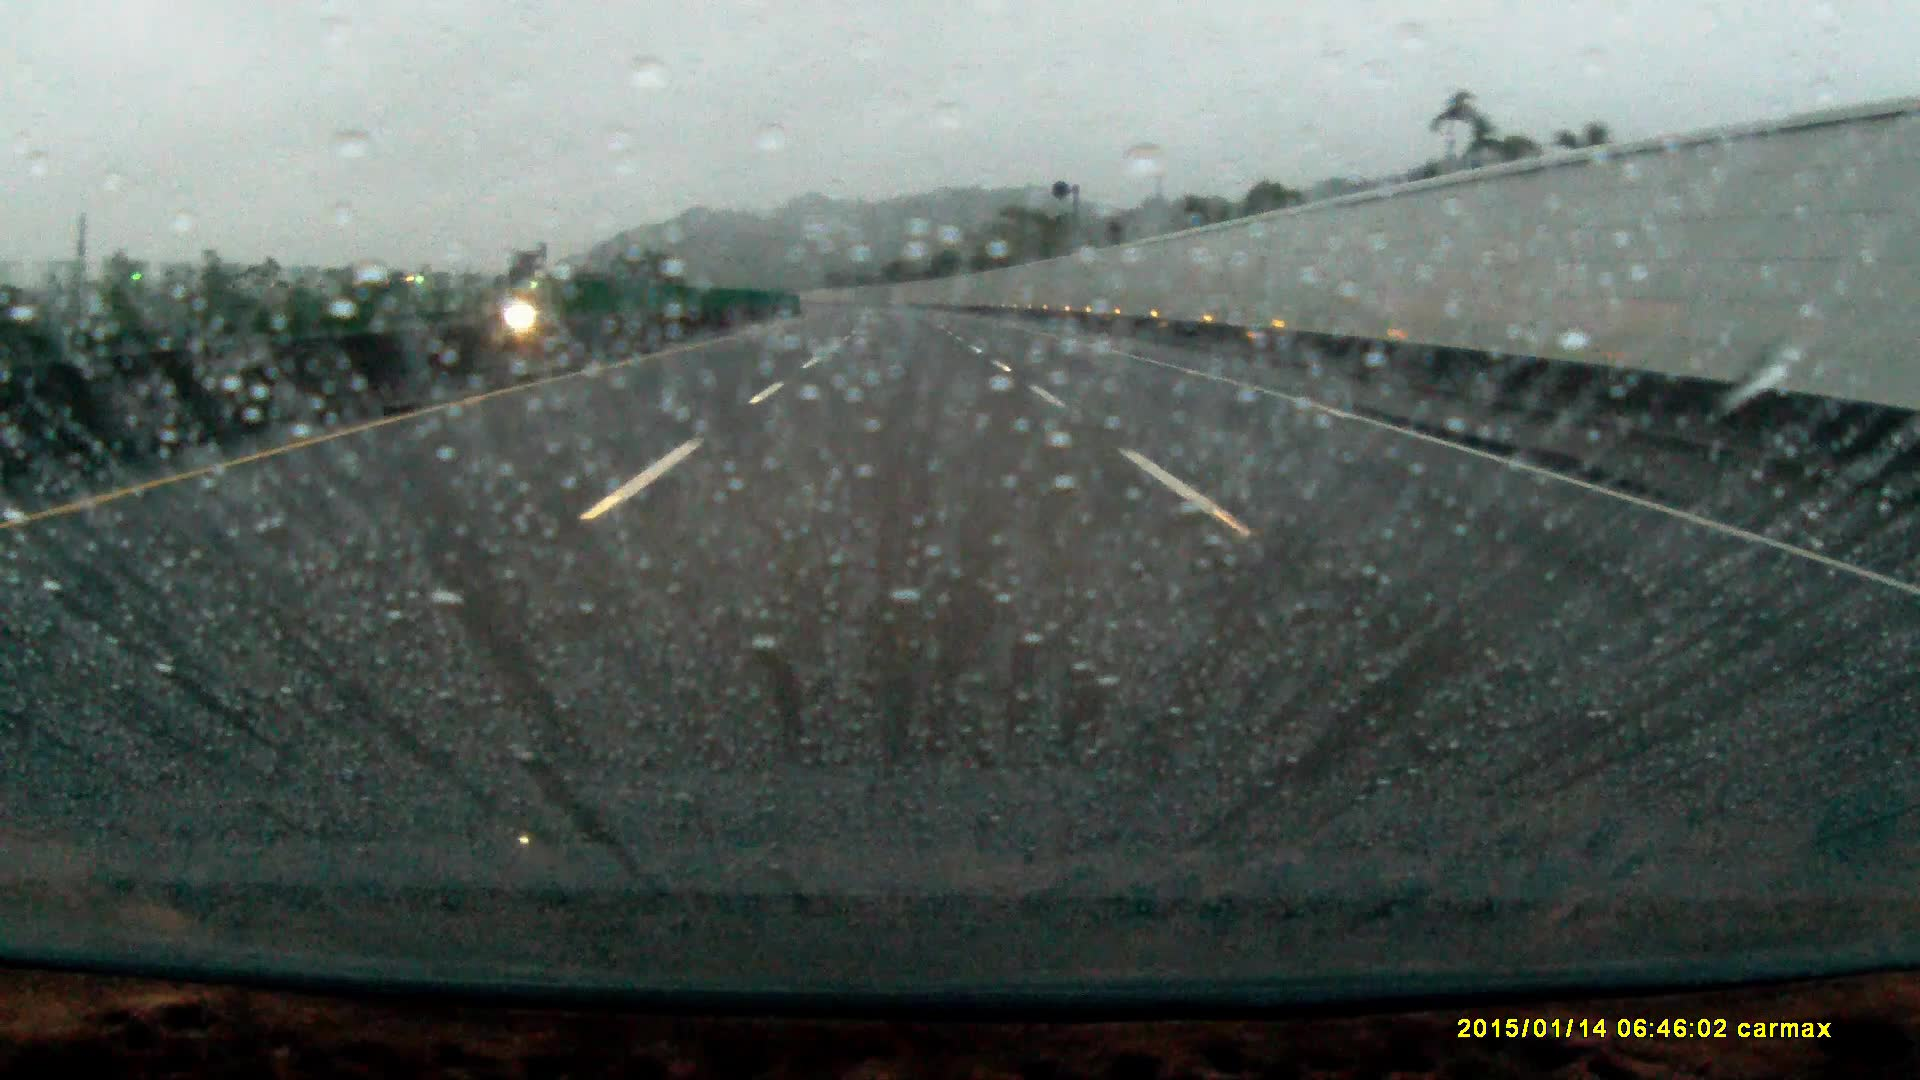vehicle: (467, 290, 547, 328)
